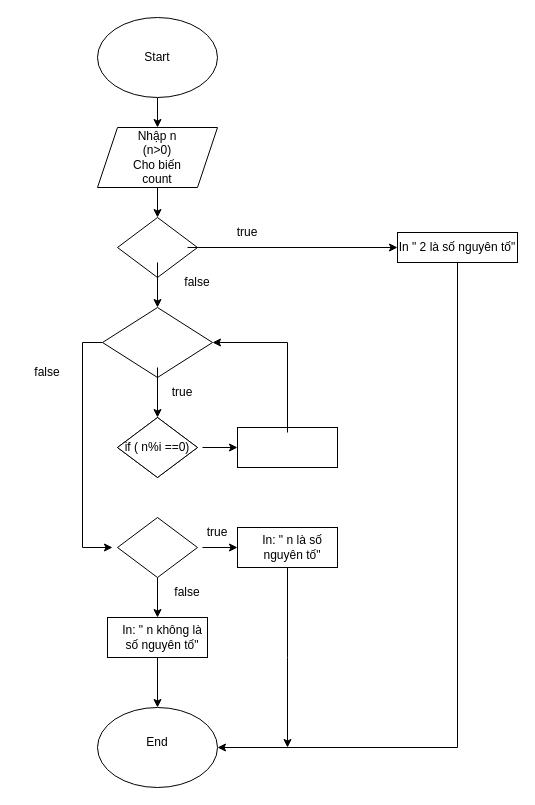
Some shapes in this 535 by 805 pixel diagram are drawn without their labels. Each missing label, with the centre of its shape:
"count ++" goes at [287,447].
"for ( int i =2; i <= sqrt(n); i++" goes at [157,342].
"if ( n ==2 )" goes at [157,247].
"if(count ==0)" goes at [157,547].
